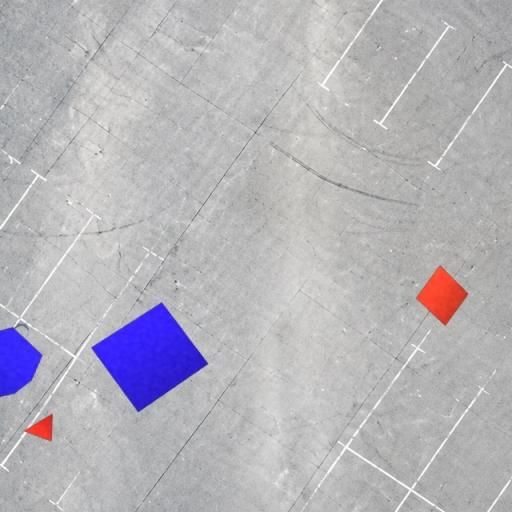BLUE_SQUARE: (90, 302, 209, 412)
RED_SQUARE: (416, 265, 469, 326)
